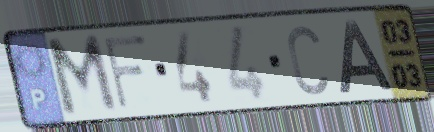4: (225, 21, 269, 105), (176, 28, 217, 108)
A: (337, 18, 395, 96)
C: (284, 22, 331, 98)
F: (100, 31, 151, 113)
M: (43, 31, 122, 121)
